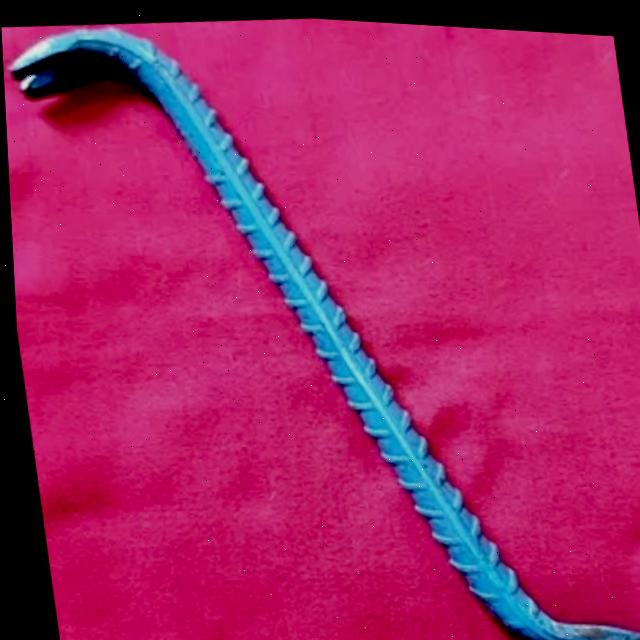crow bar: (4, 27, 640, 640)
